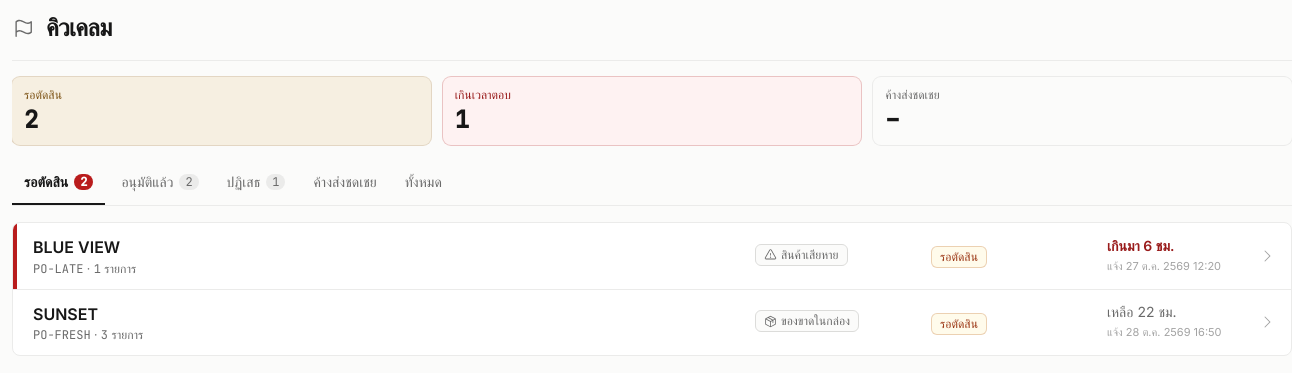
Test case: a backorders failure does not blank the claims
The image size is (1292, 373).
Expected: the text "BLUE VIEW" is shown, 33,237 -> 120,257
What coordinates should you click on to do the following:
click the tab "ค้างส่งชดเชย"
I would click on:
 (345, 183)
Its box is 301,161 -> 389,205.
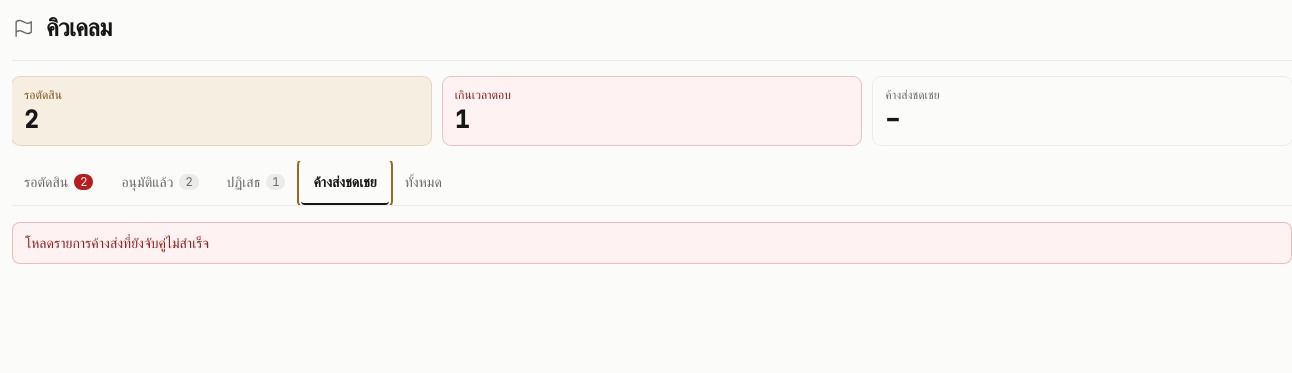
Expected: the text "โหลดรายการค้างส่งที่ยังจับคู่ไม่สำเร็จ" is shown, 12,222 -> 1291,264
